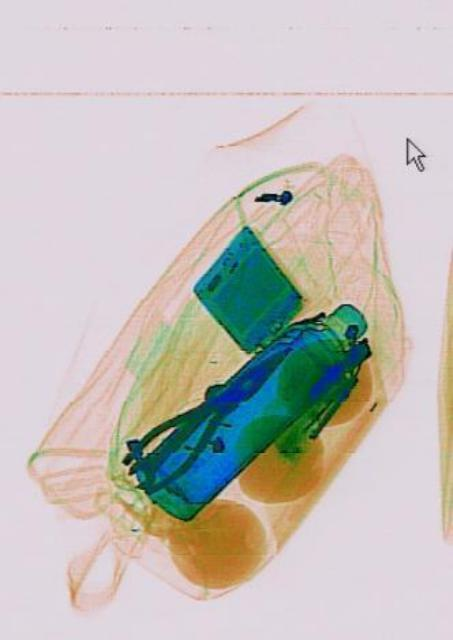Pliers: (118, 320, 301, 500)
Wrench: (122, 372, 231, 493)
